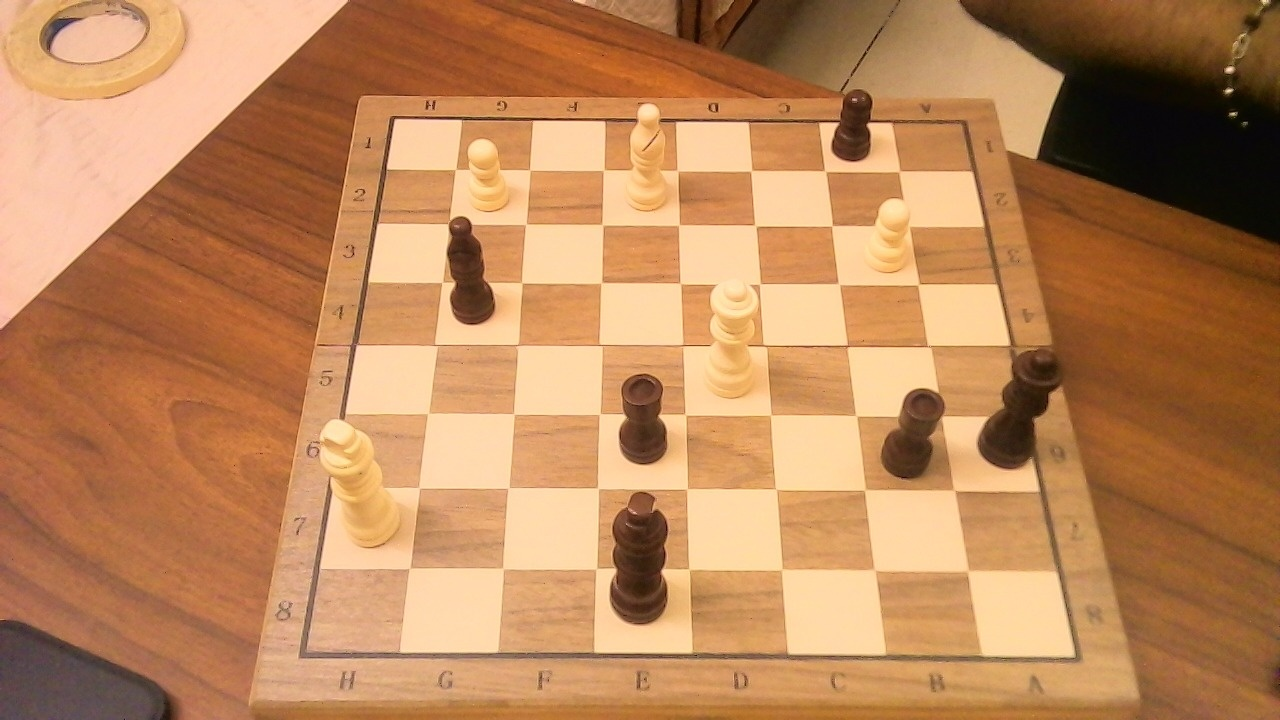B: (614, 92, 677, 216)
K: (313, 406, 408, 553)
P: (856, 189, 918, 277), (457, 130, 515, 215)
Q: (694, 266, 766, 403)
b: (442, 204, 508, 329)
k: (602, 476, 686, 630)
p: (826, 77, 883, 165)
q: (972, 330, 1077, 475)
r: (875, 374, 955, 483), (608, 360, 680, 469)
